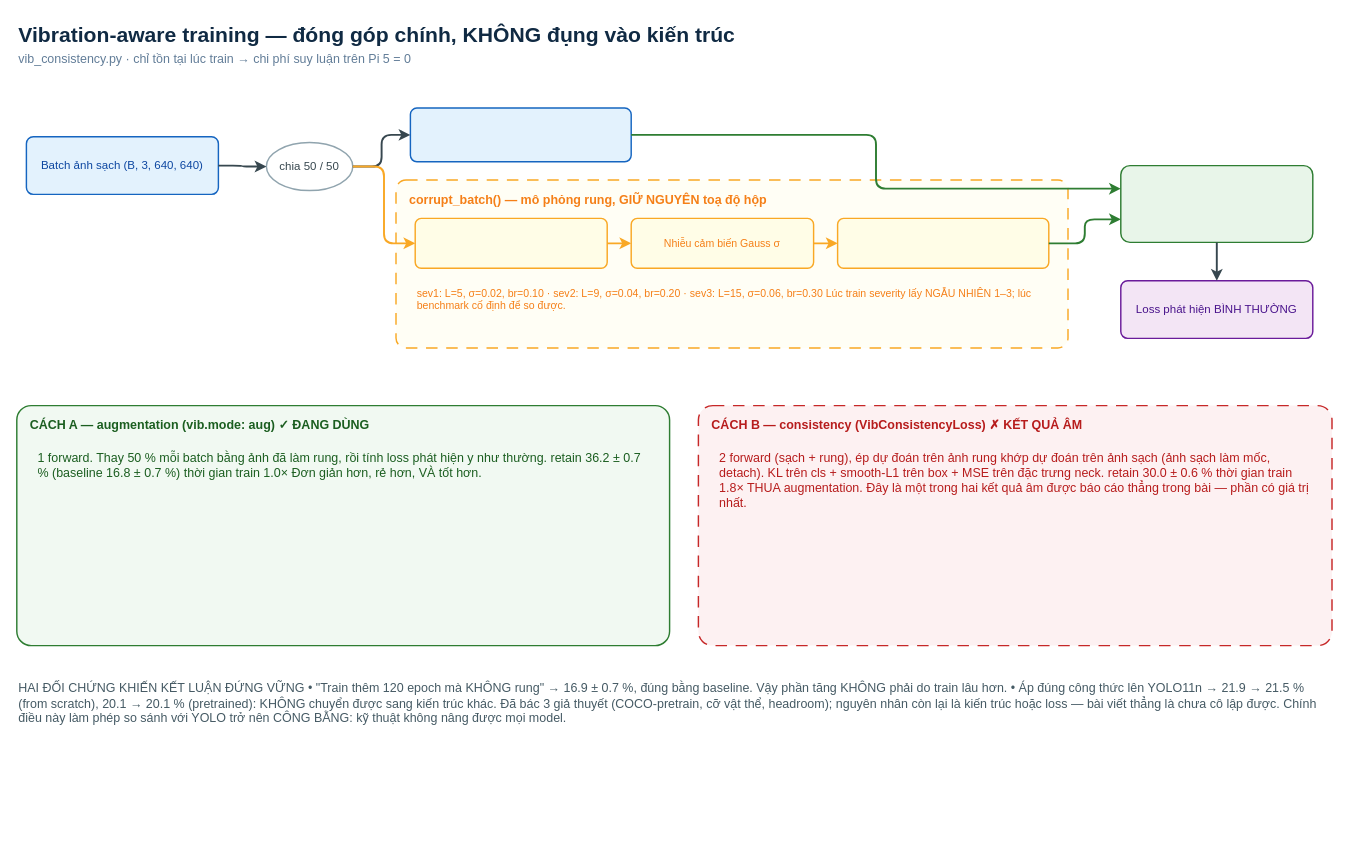
This 1350x863 diagram has some shape labels left out. Each missing label, with the centre of its shape:
50 % giữ nguyên: (520,134)
Dao động độ sáng ±br: (942,243)
Nhoè chuyển động vạch dài L, góc ngẫu nhiên: (510,243)
SteadyDet-N (một model duy nhất): (1216,203)
